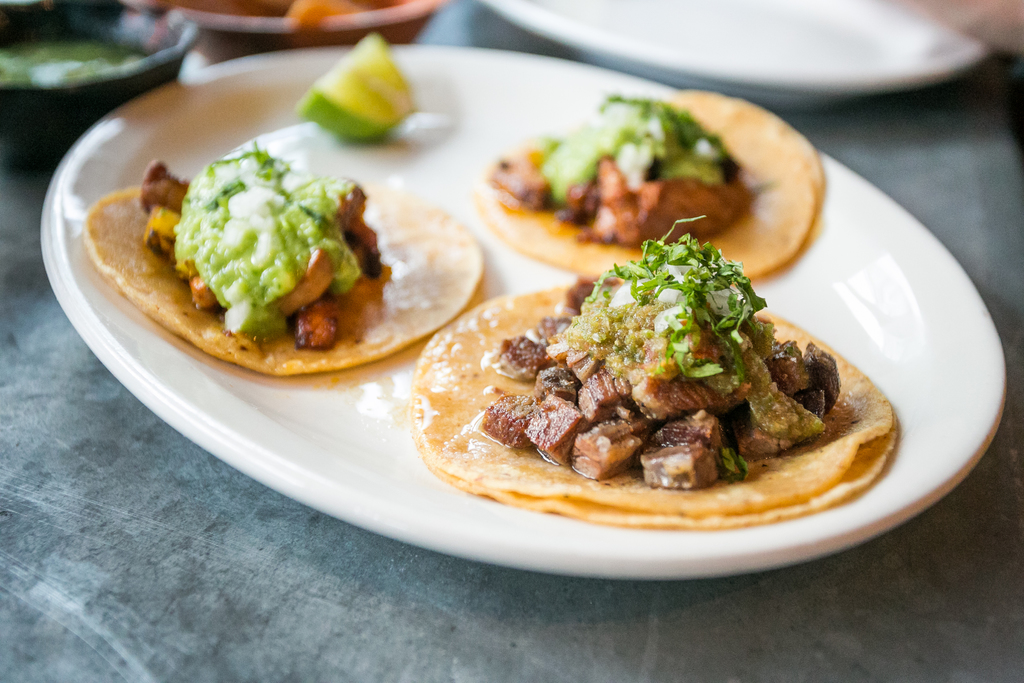taco: (405, 276, 900, 524), (84, 167, 484, 377), (470, 94, 821, 288), (479, 92, 825, 278)
